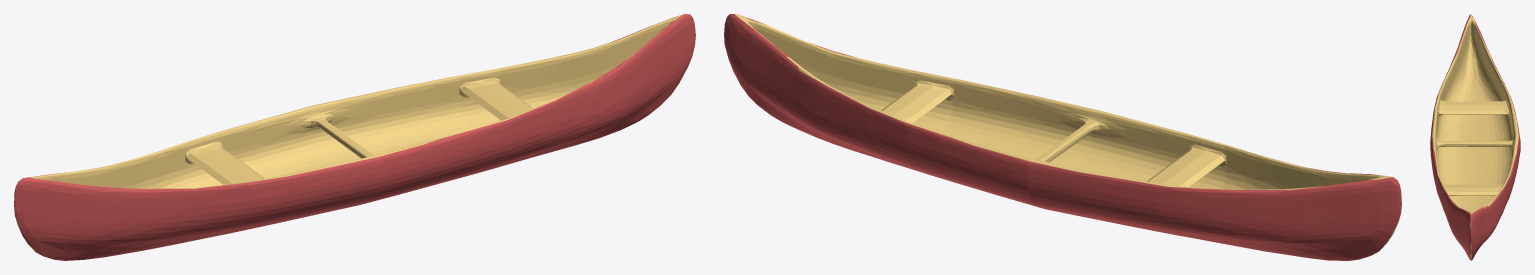
Rendered from canoe.glb.
The picture shows the model from 3 angles, left to right: view 1: azimuth 30°, elevation 25°; view 2: azimuth 150°, elevation 25°; view 3: azimuth 270°, elevation 25°; orthographic projection. The views are drawn at different scales.
Visible parts, largest first — view 1: node-0; view 2: node-0; view 3: node-0.
Part boxes in pixels (x1,y1,x2,y2): node-0: (14,14,695,260); node-0: (724,14,1401,260); node-0: (1430,14,1520,260).
Bounding box in the file's own units: 455 × 70.78 × 83.81.
